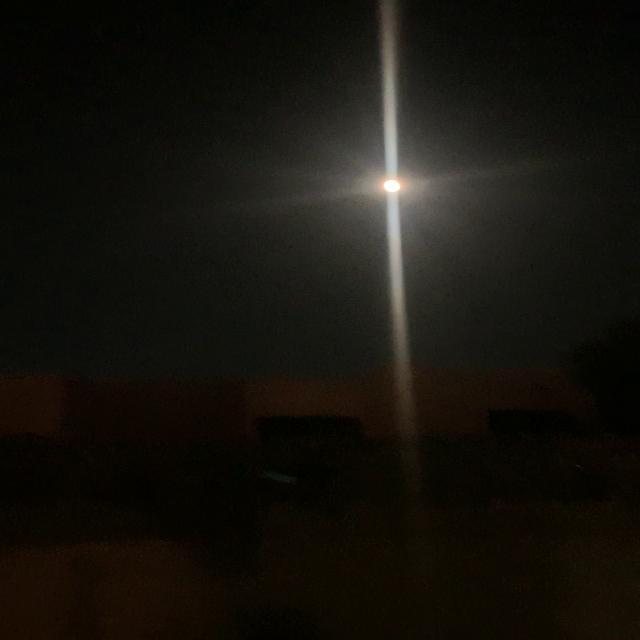moon: (362, 167, 422, 200)
